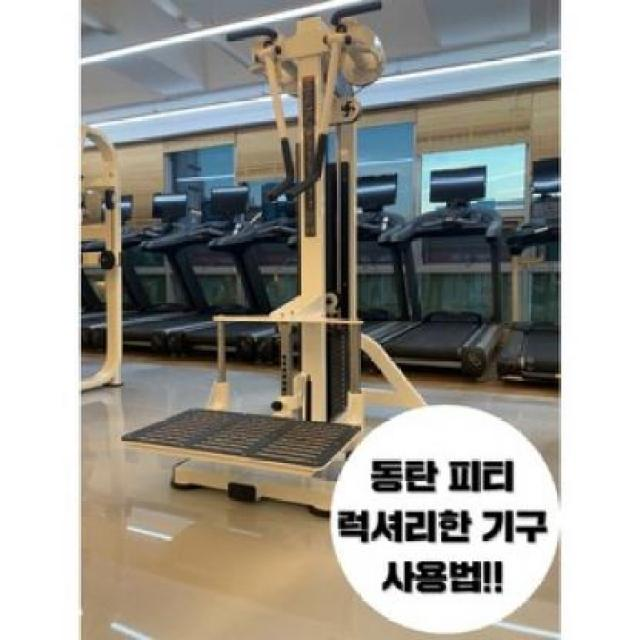lateral raises machine: (130, 2, 388, 463)
